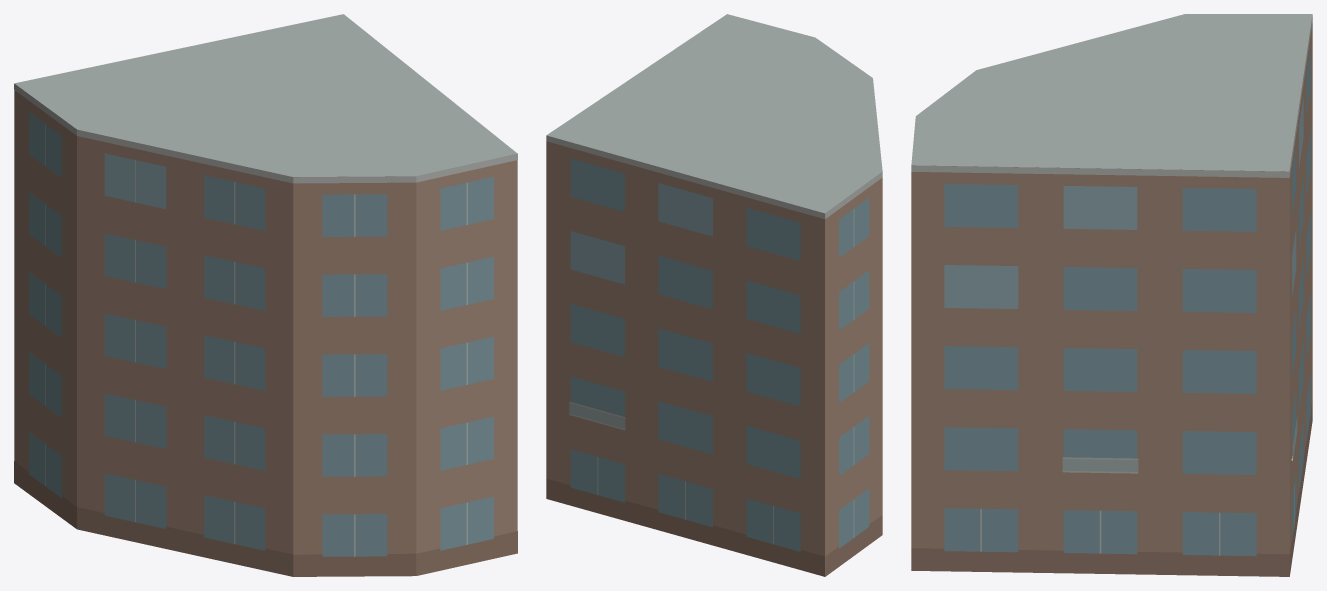
File: survey-upis-33019490.glb
3 renders of one model, left to right at view 1: azimuth 30°, elevation 25°; view 2: azimuth 150°, elevation 25°; view 3: azimuth 270°, elevation 25°, orthographic. The views are drawn at different scales.
Parts seen in each view (by area): view 1: survey-upis-33019490.tmp; view 2: survey-upis-33019490.tmp; view 3: survey-upis-33019490.tmp.
Part boxes in pixels (box(x1,y1,x2,y2)): survey-upis-33019490.tmp: box(14, 14, 517, 576); survey-upis-33019490.tmp: box(546, 14, 882, 576); survey-upis-33019490.tmp: box(911, 14, 1312, 576).
Size of the model in its own units: 12.76 by 15.3 by 13.74.
